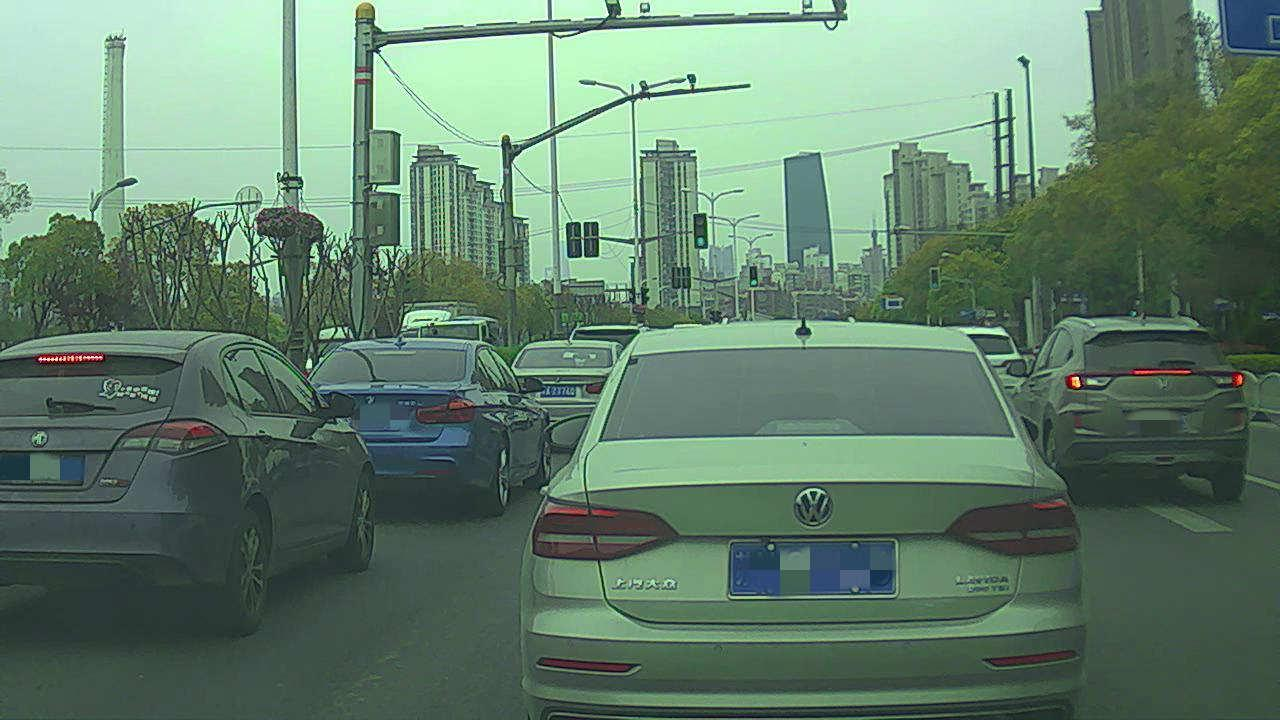traffic_light: (692, 213, 708, 247), (749, 260, 759, 290)
